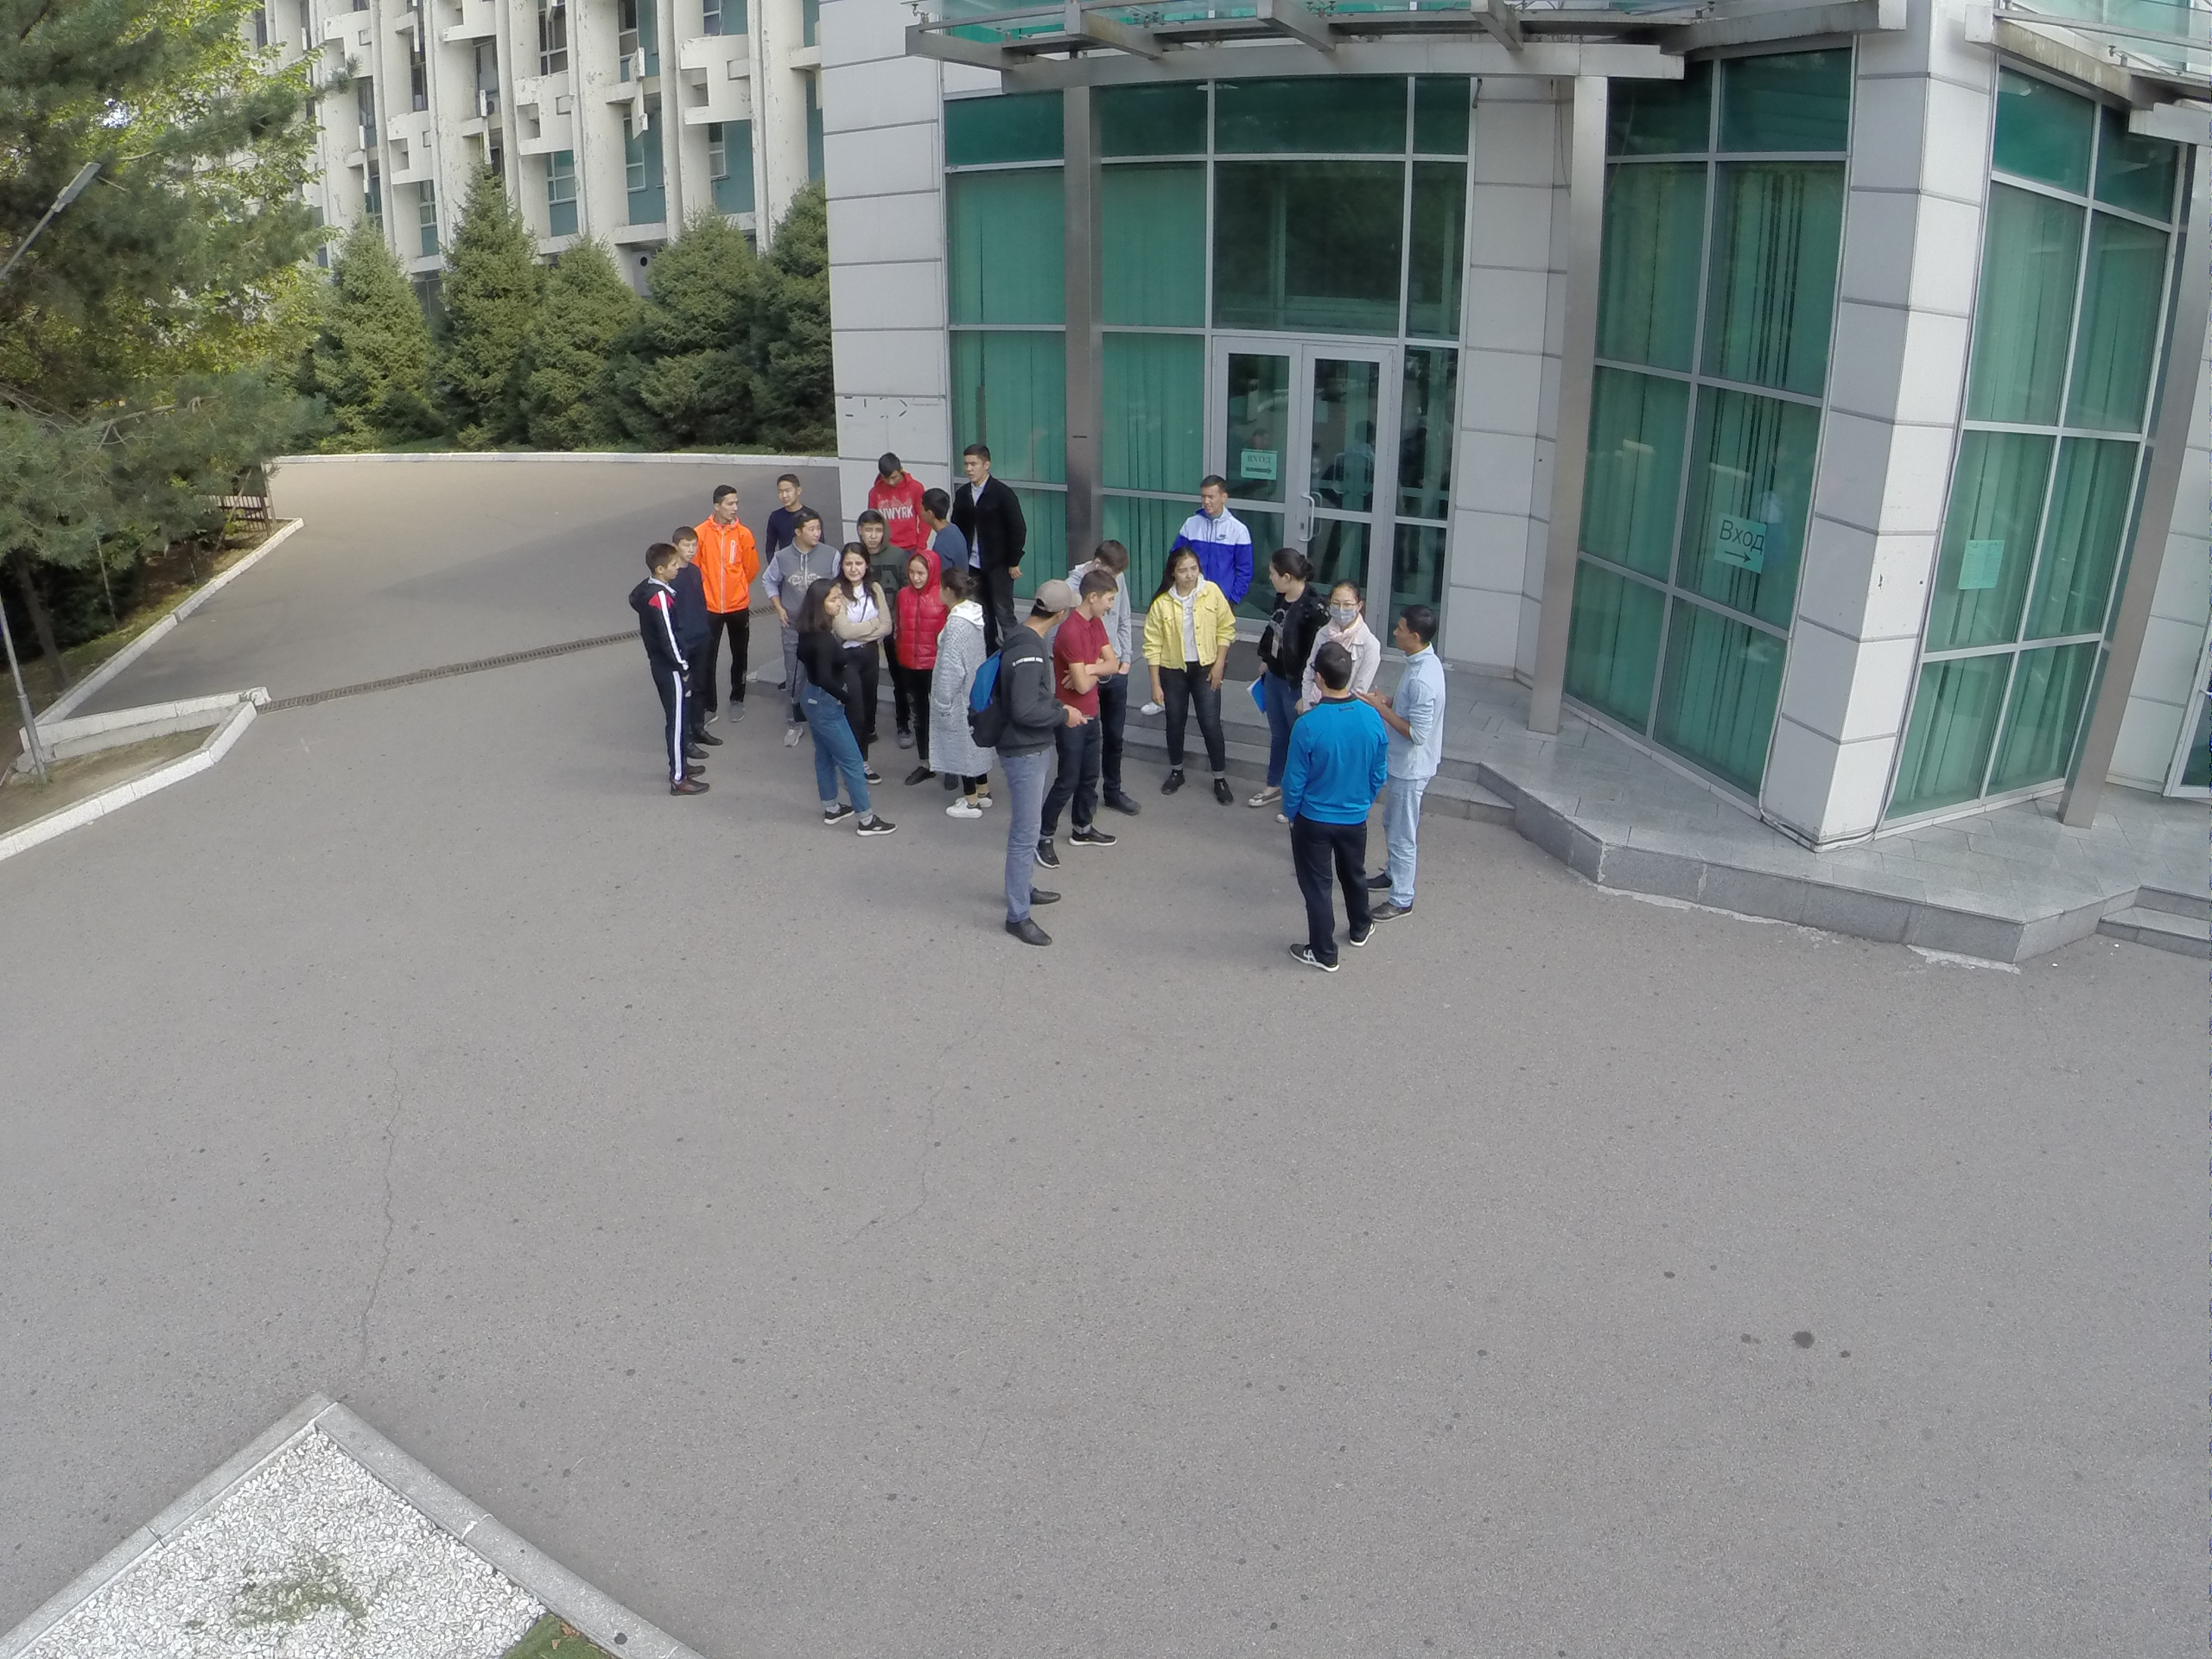person: (1282, 652, 1378, 979), (1141, 549, 1243, 803), (1003, 580, 1065, 954), (799, 580, 887, 837), (639, 542, 709, 804), (1389, 596, 1440, 920), (934, 575, 999, 825), (699, 484, 752, 727), (771, 519, 829, 745), (1072, 590, 1118, 866), (1261, 561, 1308, 810), (835, 537, 884, 750), (898, 547, 943, 770), (958, 446, 1027, 572), (1193, 474, 1255, 587), (915, 484, 972, 577), (768, 470, 818, 542), (1325, 577, 1376, 643)
